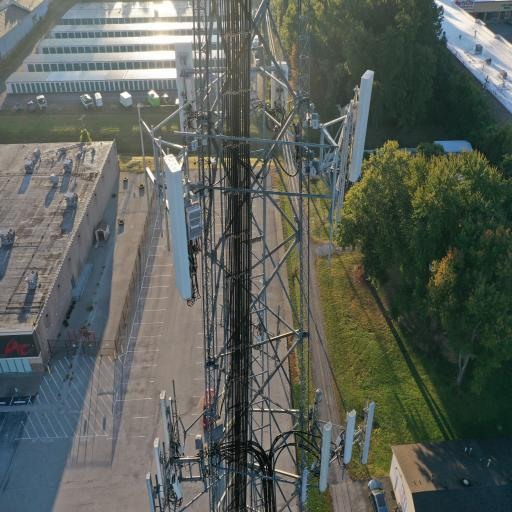supporting_tower: (152, 0, 277, 512)
